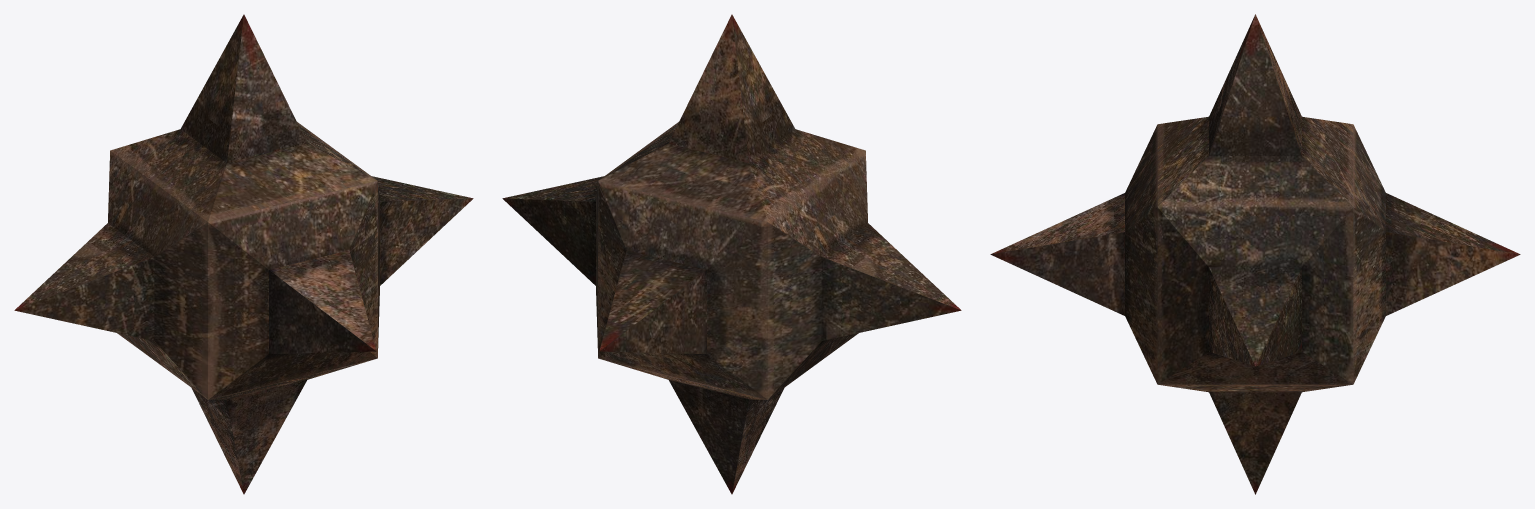
The model's file is pincheOxidado.fbx.
3 renders of one model, left to right at view 1: azimuth 30°, elevation 25°; view 2: azimuth 150°, elevation 25°; view 3: azimuth 270°, elevation 25°, orthographic.
Parts seen in each view (by area): view 1: Cube; view 2: Cube; view 3: Cube.
Part boxes in pixels (left/top/right/bottom): Cube: left=14, top=14, right=473, bottom=494; Cube: left=502, top=14, right=961, bottom=494; Cube: left=990, top=14, right=1520, bottom=494.
Bounding box in the file's own units: 542 × 542 × 542.
